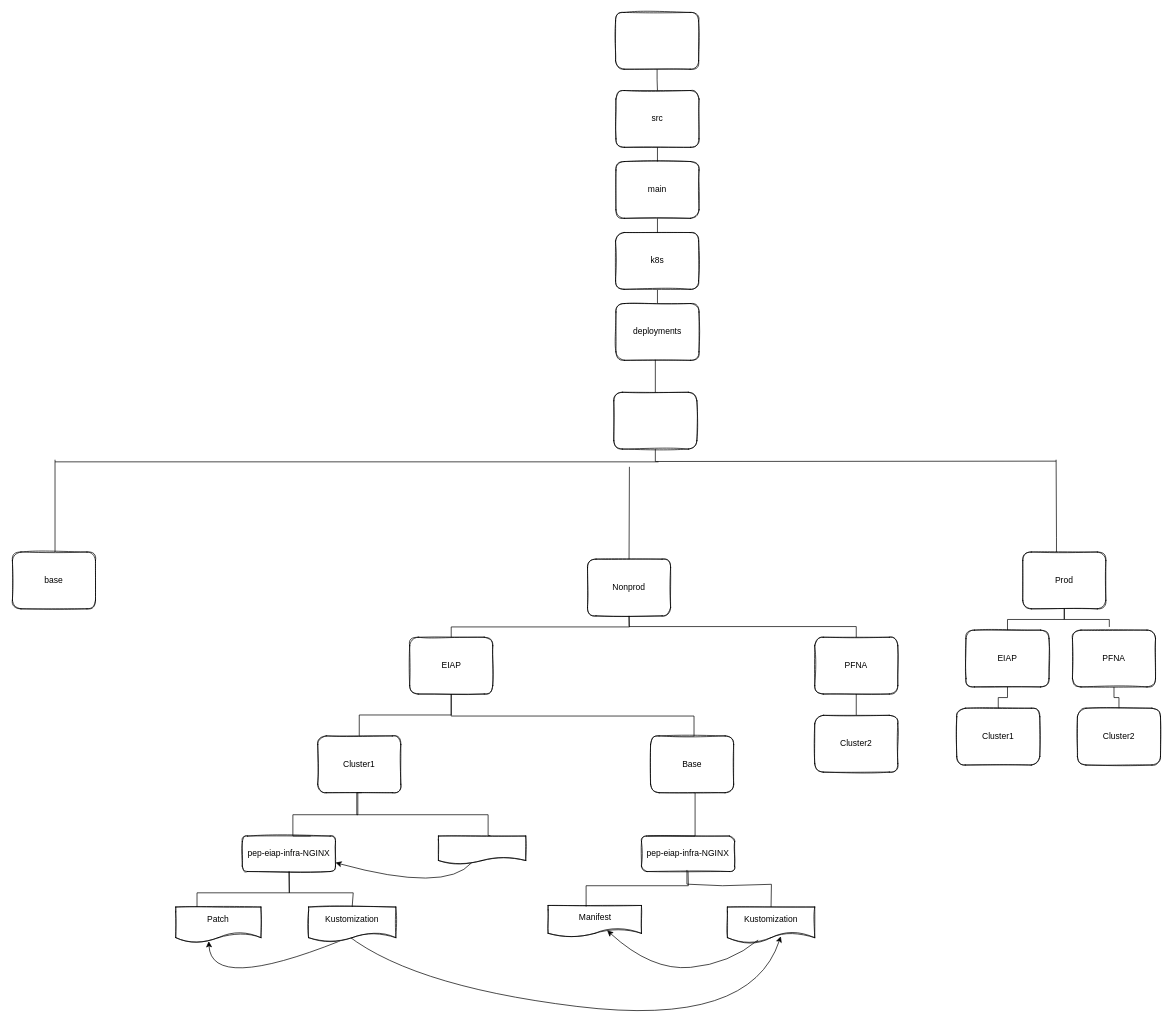
The diagram is 1173 pixels wide and 1023 high, and some of its shapes have lost their labels. Here are the shapes that lost their labels. From the top down, the centre of each, then its label:
At point (657, 40): "eip-infra-k8s-support".
At point (655, 420): "apps".
At point (482, 849): "ArgoCD app configs".
